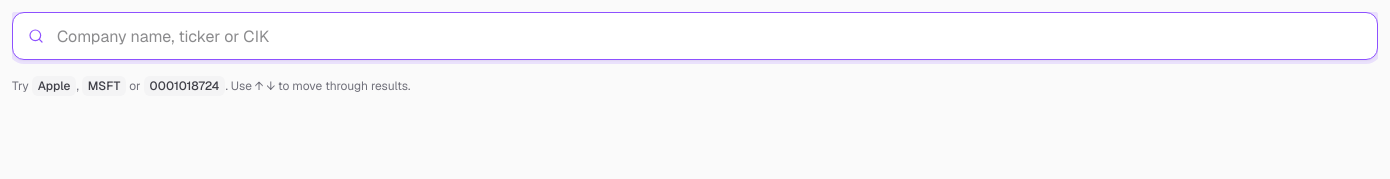
Test: CompanySearch › says when nothing matches
Type "zzzz" into the search field at [695, 36], box [12,12,1378,60]
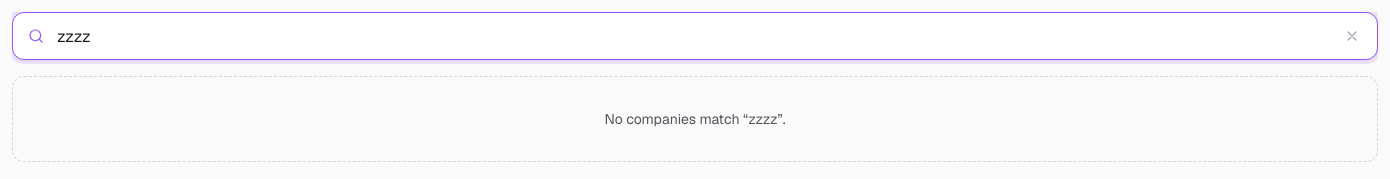
expect the text "No companies match “zzzz”." is shown: met, box [12,76,1378,162]
